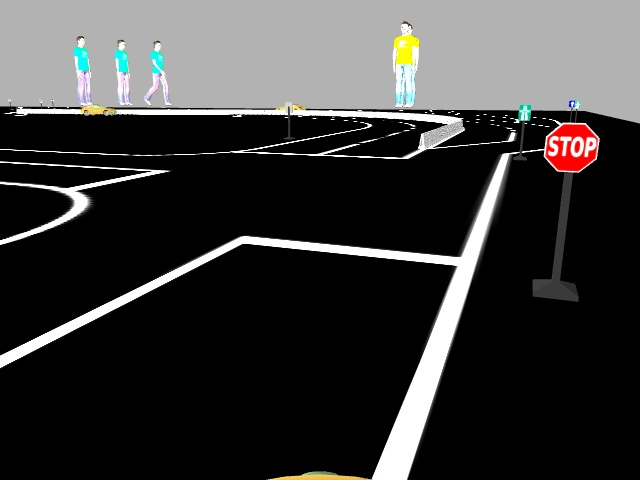Stop: (543, 121, 597, 175)
